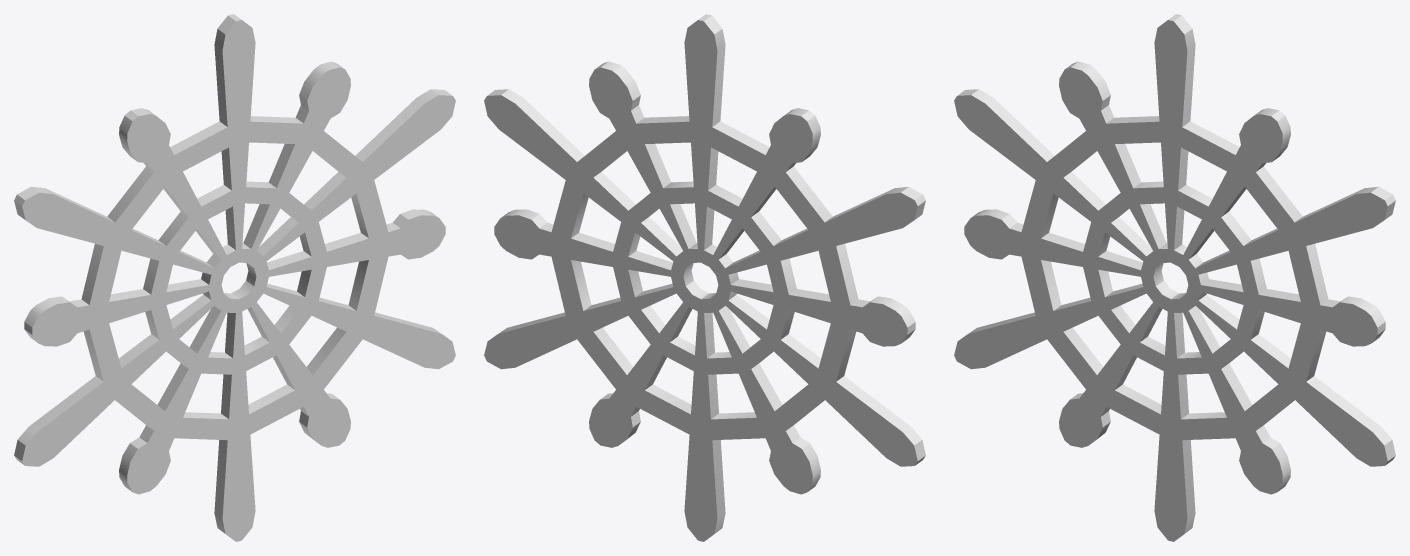
The model's file is Snowflake_04.fbx.
3 renders of one model, left to right at view 1: azimuth 30°, elevation 25°; view 2: azimuth 150°, elevation 25°; view 3: azimuth 330°, elevation 25°, orthographic.
Visible parts, largest first — view 1: Snowflake_04; view 2: Snowflake_04; view 3: Snowflake_04.
Part boxes in pixels (x1,y1,x2,y2): Snowflake_04: (14, 14, 455, 541); Snowflake_04: (484, 14, 925, 541); Snowflake_04: (954, 14, 1395, 541).
Bounding box in the file's own units: 0.225 × 0.258 × 0.00728.
